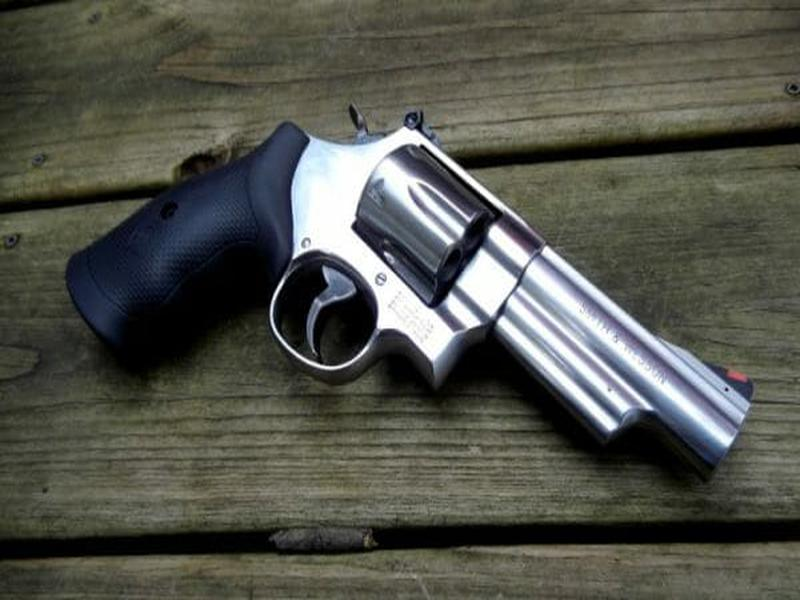Revolver: (169, 84, 765, 507)
